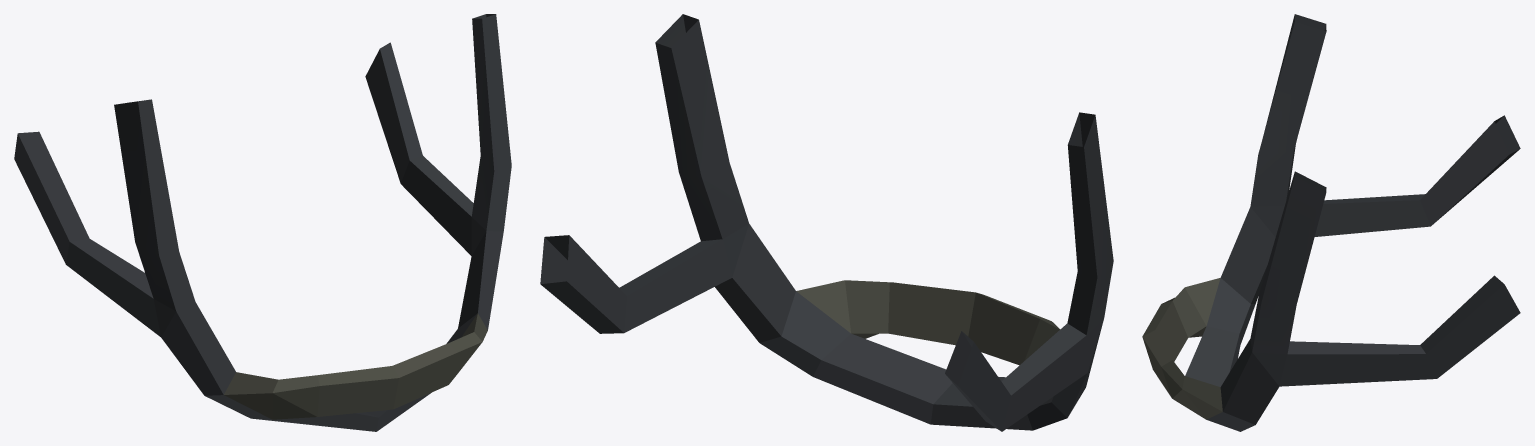
File: SM_Chr_Attach_Chin_Strap_01_Female.fbx
3 renders of one model, left to right at view 1: azimuth 30°, elevation 25°; view 2: azimuth 150°, elevation 25°; view 3: azimuth 270°, elevation 25°, orthographic. The views are drawn at different scales.
Visible parts, largest first — view 1: SM_Chr_Attach_Chin_Strap_01_Female; view 2: SM_Chr_Attach_Chin_Strap_01_Female; view 3: SM_Chr_Attach_Chin_Strap_01_Female.
Part boxes in pixels (left/top/right/bottom): SM_Chr_Attach_Chin_Strap_01_Female: left=14, top=14, right=511, bottom=431; SM_Chr_Attach_Chin_Strap_01_Female: left=540, top=14, right=1113, bottom=431; SM_Chr_Attach_Chin_Strap_01_Female: left=1142, top=14, right=1520, bottom=431.
Size of the model in its own units: 24.07 by 20.91 by 22.77.
